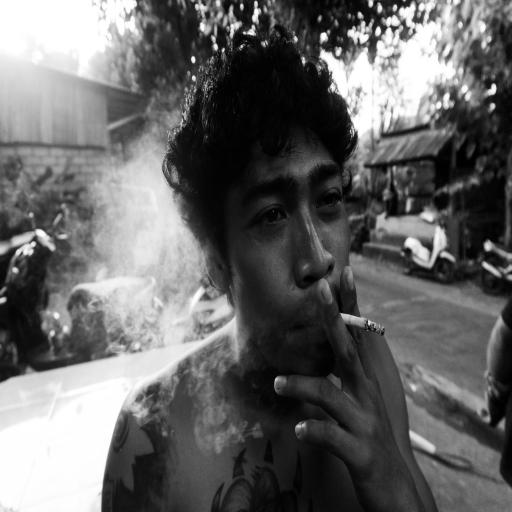terdeteksi merokok: (276, 151, 396, 383)
